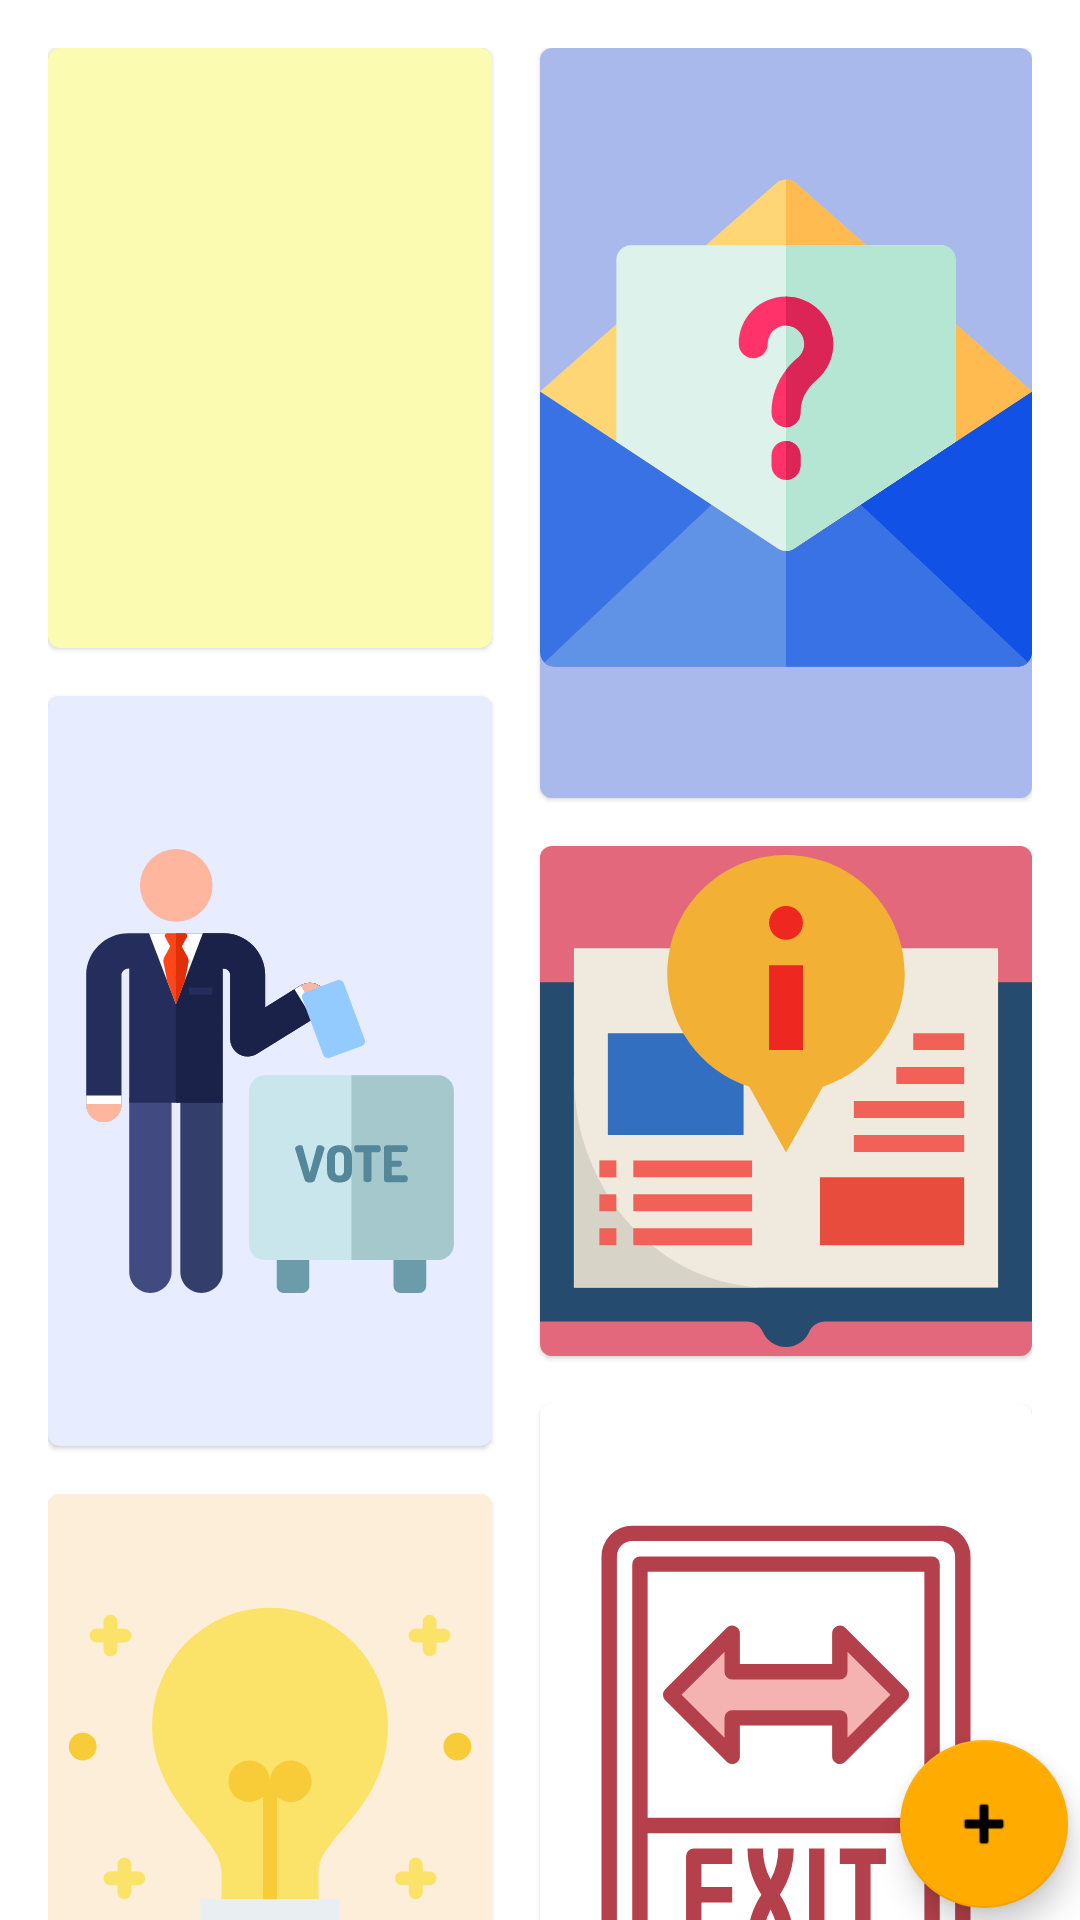

Icon bounding boxes for this 1080x1920 phone screenshot, format (x1, y1, x2, y2):
add: (900, 1740, 1068, 1908)
